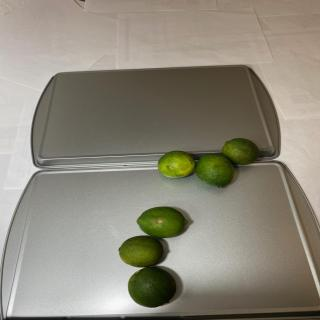Lemon: (128, 266, 176, 308), (136, 206, 188, 238), (118, 235, 164, 268), (195, 154, 235, 188), (157, 150, 195, 178), (222, 138, 260, 166)
